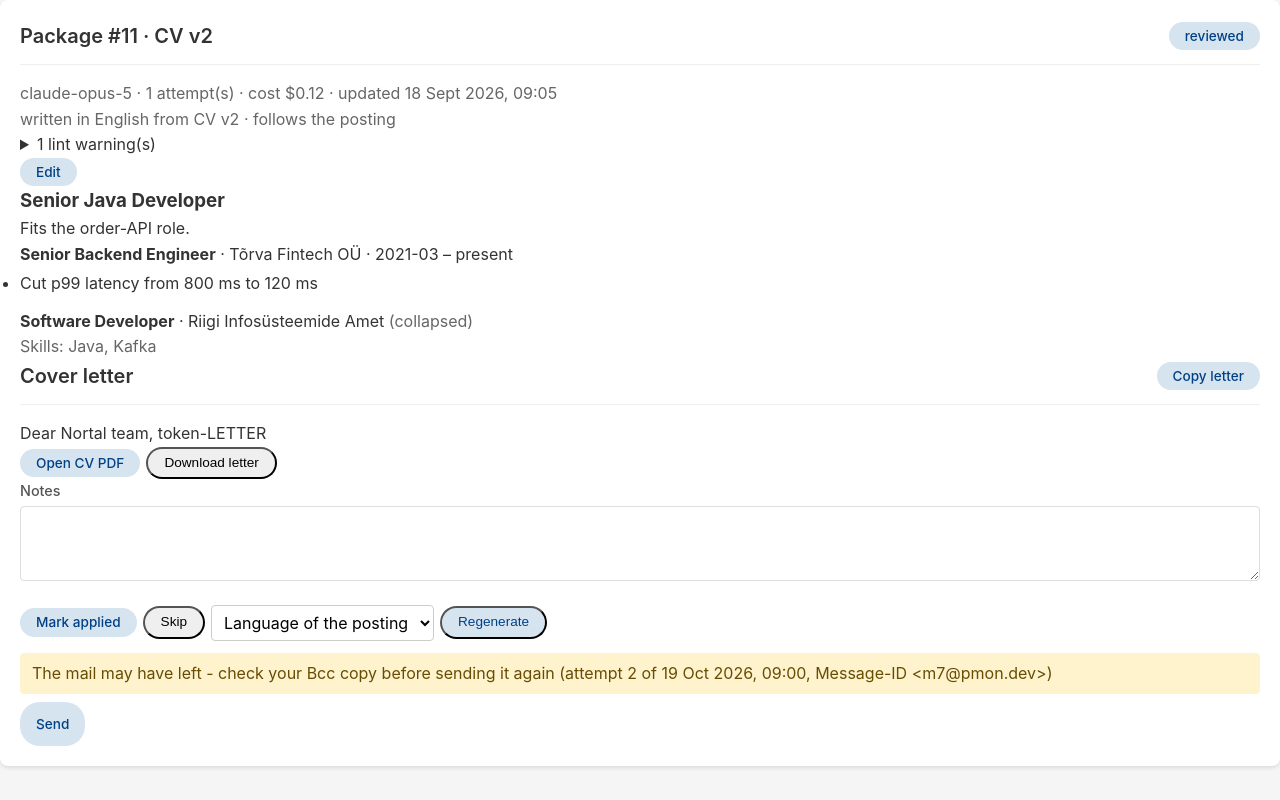
PackageSend — a send that may have left › a plain press carries no confirmation; an UNKNOWN send with no token cannot be confirmed
Click the button "Send". click: (53, 724)
box: left=20, top=702, right=85, bottom=746
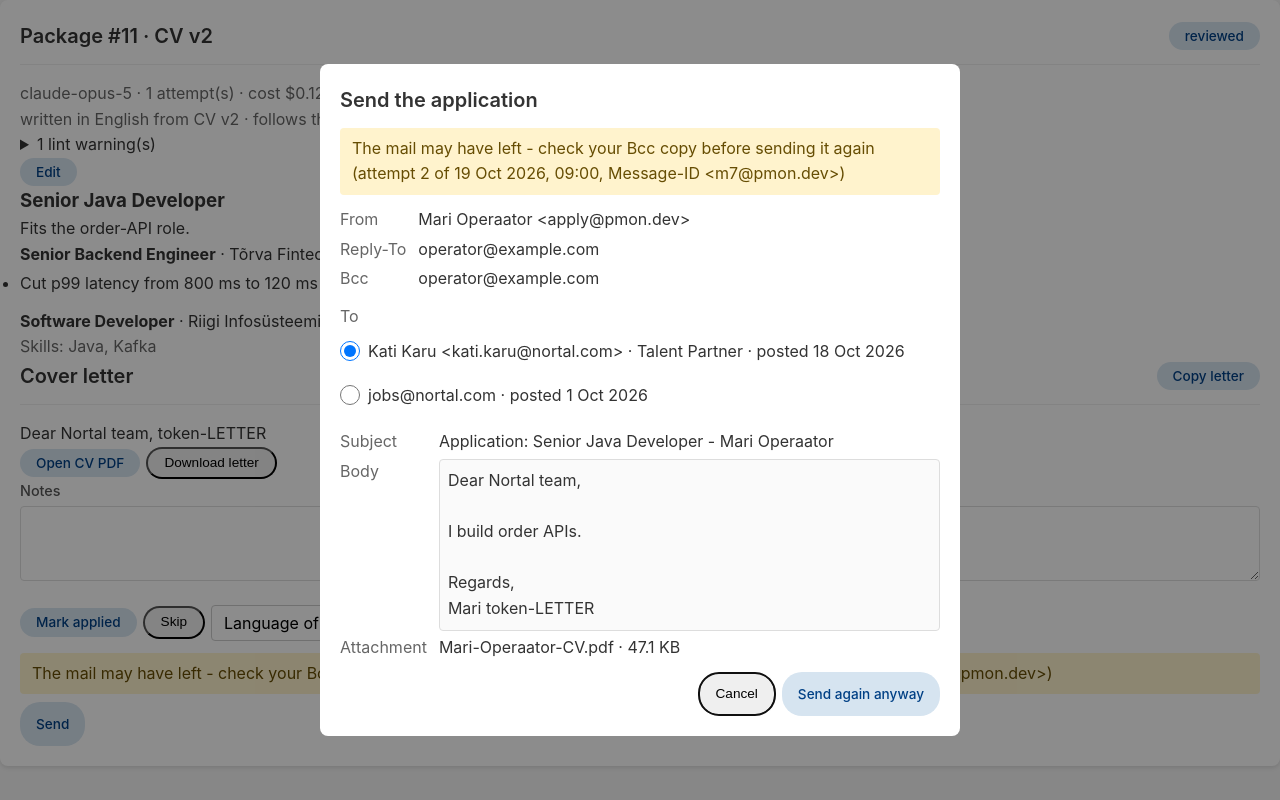
expect the button "Send again anyway" is disabled: met, box left=782, top=672, right=940, bottom=716
